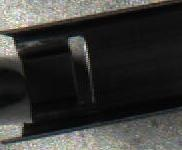press: (0, 10, 128, 146)
